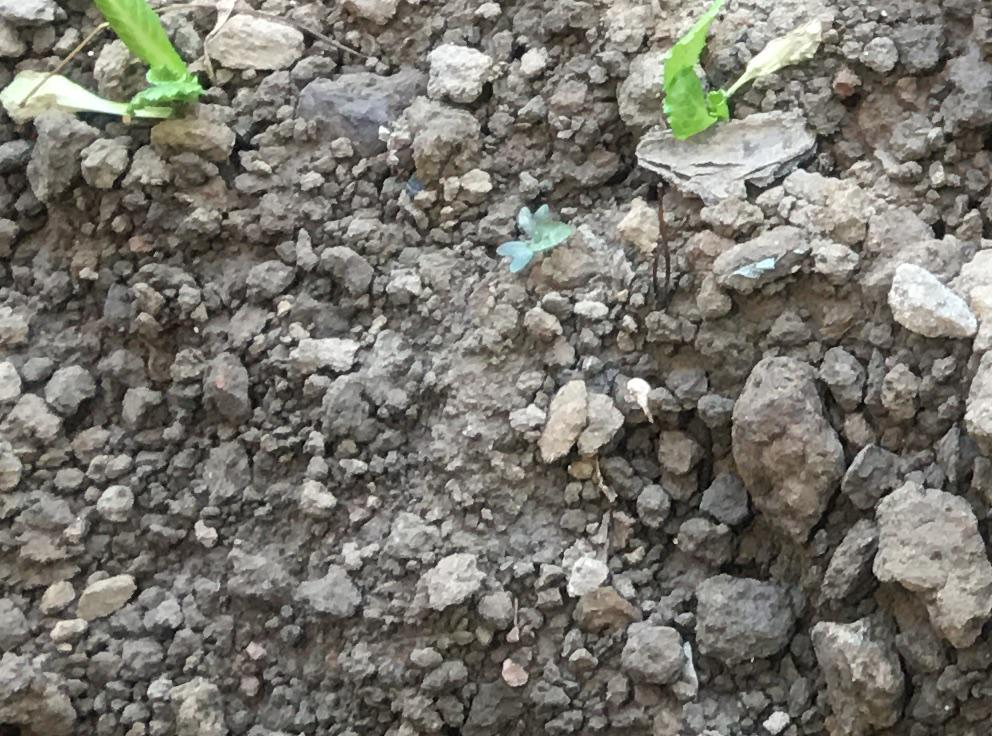block: (731, 357, 832, 553), (873, 480, 986, 645), (804, 619, 910, 736)
